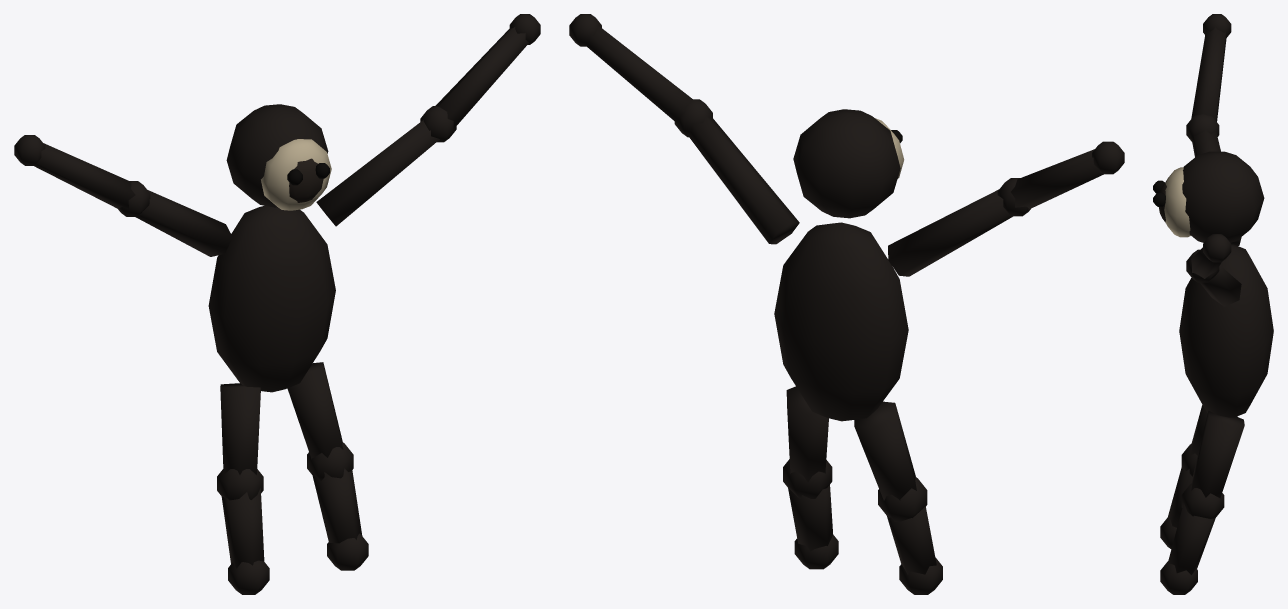
File: gibbon.glb
3 views of the same model, side by side, from view 1: azimuth 30°, elevation 25°; view 2: azimuth 150°, elevation 25°; view 3: azimuth 270°, elevation 25° (orthographic). The views are drawn at different scales.
Visible parts, largest first — view 1: Primate-gibbon; view 2: Primate-gibbon; view 3: Primate-gibbon.
Boxes of the visible parts, x1,y1,x2,y2 form: Primate-gibbon: (14, 14, 540, 594); Primate-gibbon: (569, 14, 1124, 594); Primate-gibbon: (1153, 14, 1273, 594).
Bounding box in the file's own units: 1.15 × 1.04 × 0.2552.
